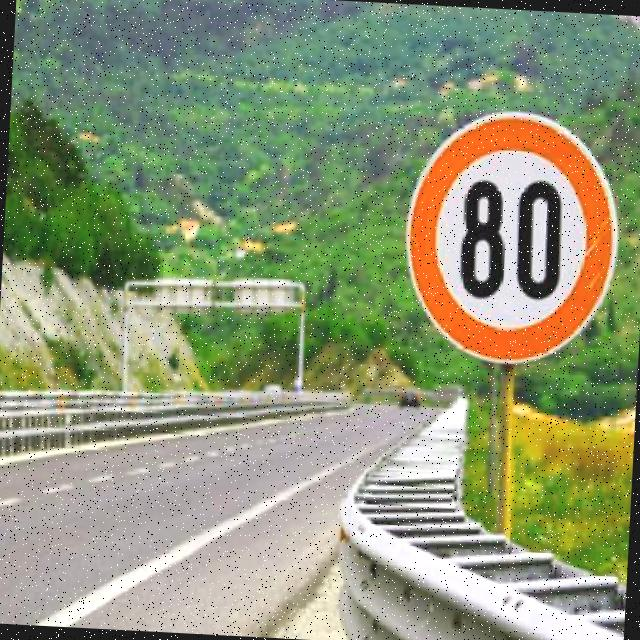Ograniczenie predkosci do 80: (418, 127, 606, 347)
